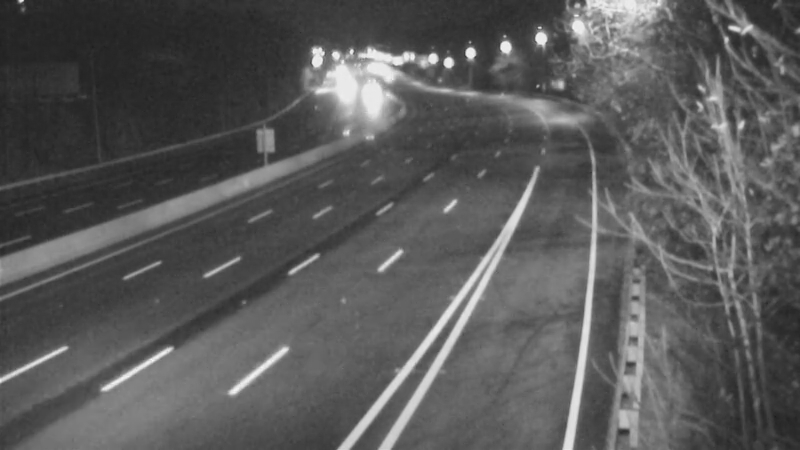vehicle: (345, 68, 395, 118), (322, 63, 372, 113)
